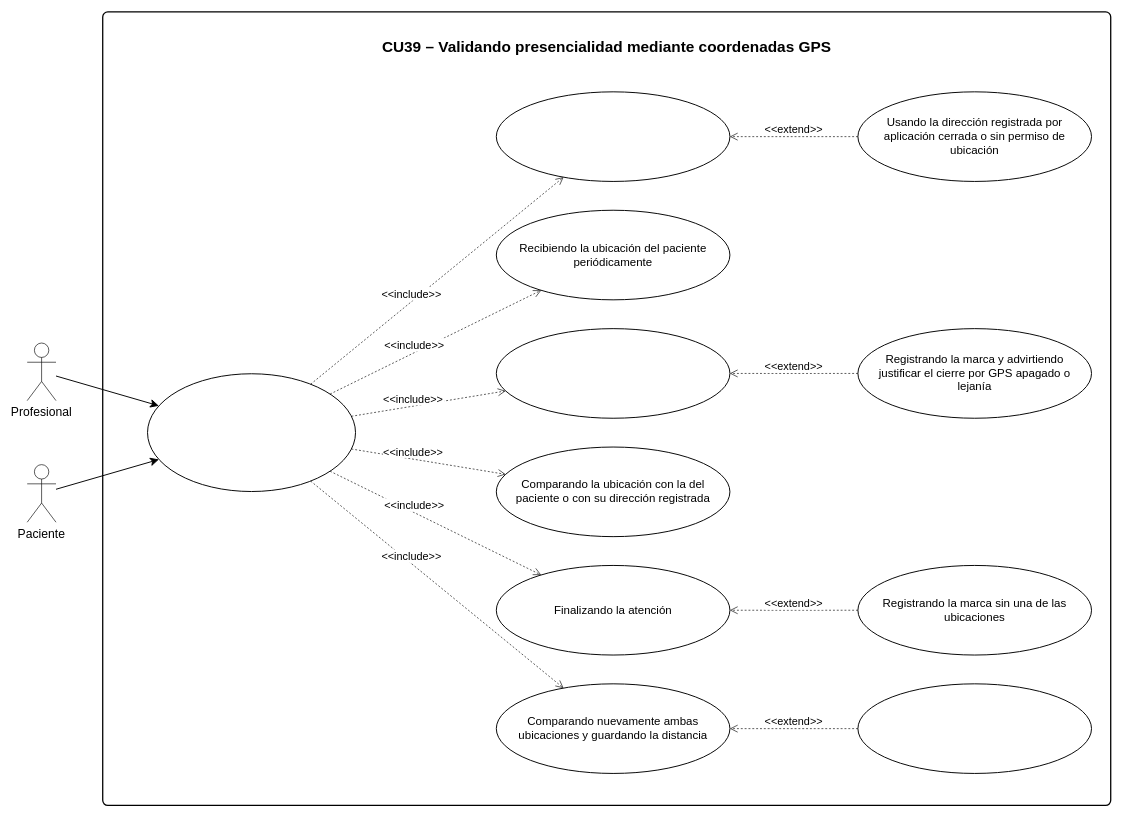
This 1123x817 diagram has some shape labels left out. Here are the shapes that lost their labels. From the top down, the centre of each, then its label:
At (613,136): "Manteniendo abierta la aplicación el día de la visita".
At (613,373): "Iniciando la atención".
At (251,432): "Validando presencialidad mediante coordenadas GPS".
At (974,728): "Derivando la sesión al administrador por distancia mayor a la permitida".
